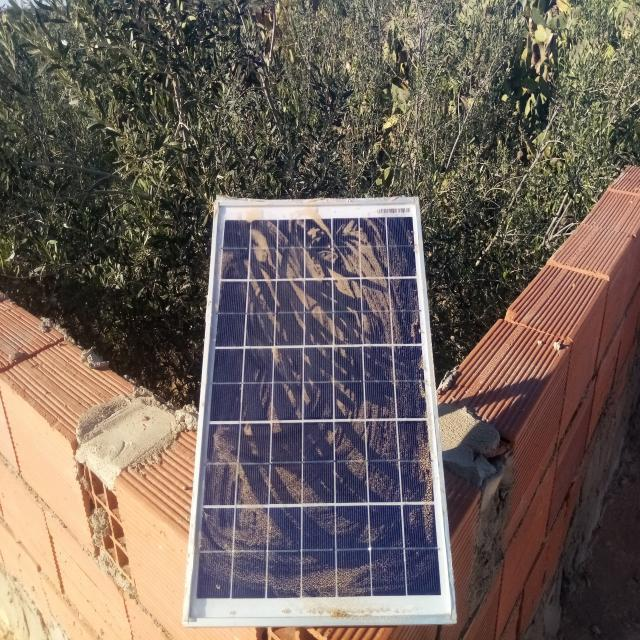faulty: (185, 197, 458, 626)
